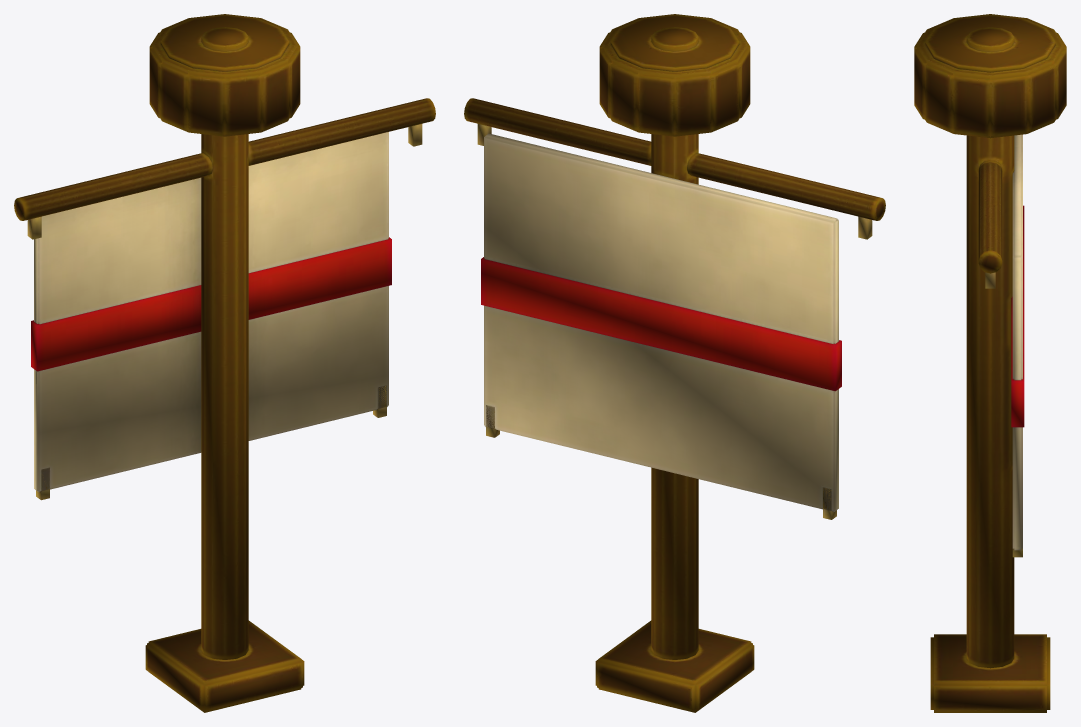
The model's file is ShipMast.glb.
The picture shows the model from 3 angles, left to right: view 1: azimuth 30°, elevation 25°; view 2: azimuth 150°, elevation 25°; view 3: azimuth 270°, elevation 25°; orthographic projection.
Visible parts, largest first — view 1: ShipMast; view 2: ShipMast; view 3: ShipMast.
Boxes of the visible parts, x1,y1,x2,y2 form: ShipMast: (14, 14, 435, 712); ShipMast: (464, 14, 885, 712); ShipMast: (914, 14, 1066, 712).
Bounding box in the file's own units: 2.8 × 4.2 × 0.8896.
Materials: 1 (1 with a texture image).
